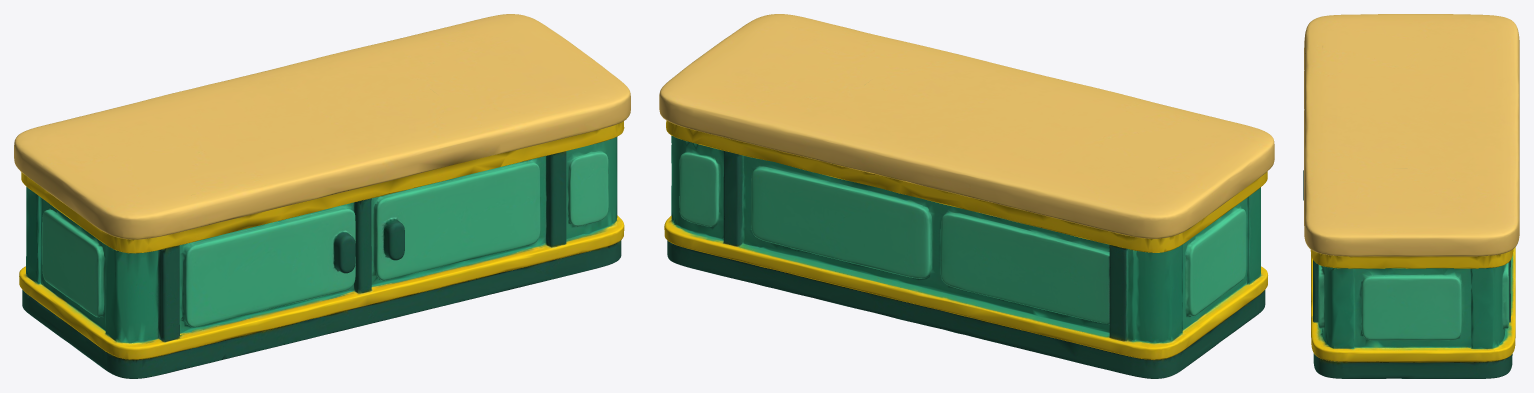
File: mostador para cobrar.glb
3 renders of one model, left to right at view 1: azimuth 30°, elevation 25°; view 2: azimuth 150°, elevation 25°; view 3: azimuth 270°, elevation 25°, orthographic. The views are drawn at different scales.
Parts seen in each view (by area): view 1: tripo_node_6100d717-70e5-4dbb-9851-b7a01d4b6050; view 2: tripo_node_6100d717-70e5-4dbb-9851-b7a01d4b6050; view 3: tripo_node_6100d717-70e5-4dbb-9851-b7a01d4b6050.
Boxes of the visible parts, box(x1,y1,x2,y2) form: tripo_node_6100d717-70e5-4dbb-9851-b7a01d4b6050: box(14, 14, 630, 378); tripo_node_6100d717-70e5-4dbb-9851-b7a01d4b6050: box(659, 14, 1274, 378); tripo_node_6100d717-70e5-4dbb-9851-b7a01d4b6050: box(1303, 14, 1519, 378).
Bounding box in the file's own units: 1 × 0.3075 × 0.4077.
Materials: 1 (1 with a texture image).
